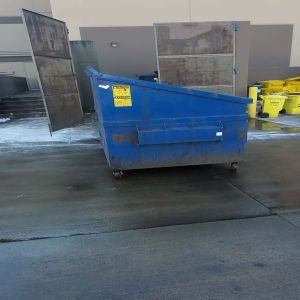Dumpster: (91, 74, 247, 178)
